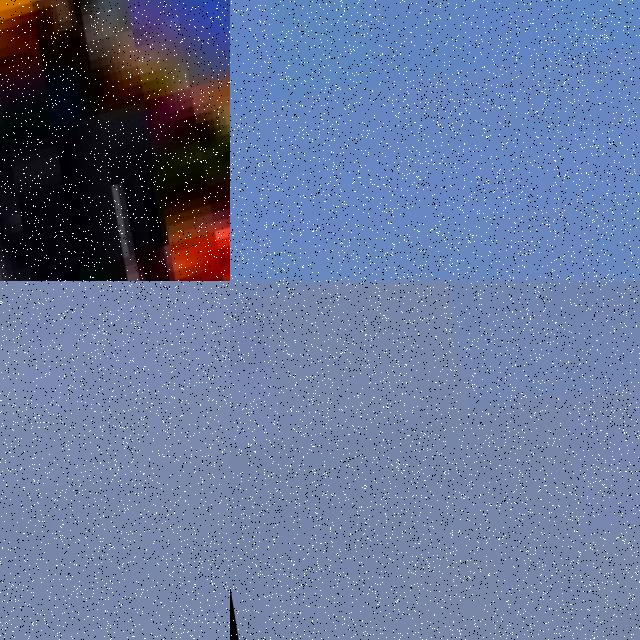drone: (0, 0, 230, 281)
